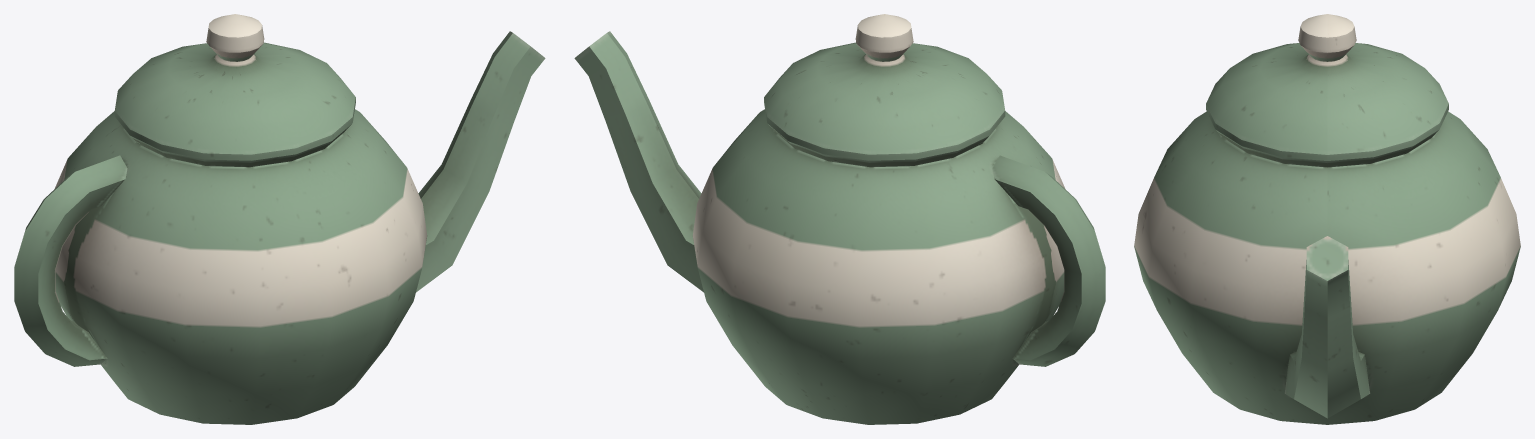
File: Teapot_01.glb
The picture shows the model from 3 angles, left to right: view 1: azimuth 30°, elevation 25°; view 2: azimuth 150°, elevation 25°; view 3: azimuth 270°, elevation 25°; orthographic projection.
Visible parts, largest first — view 1: Teapot_01; view 2: Teapot_01; view 3: Teapot_01.
Part boxes in pixels (x1=…): Teapot_01: x1=14, y1=14, x2=545, y2=424; Teapot_01: x1=574, y1=14, x2=1105, y2=424; Teapot_01: x1=1134, y1=14, x2=1520, y2=424.
Size of the model in its own units: 0.2709 by 0.176 by 0.172.
Materials: 1 (1 with a texture image).
